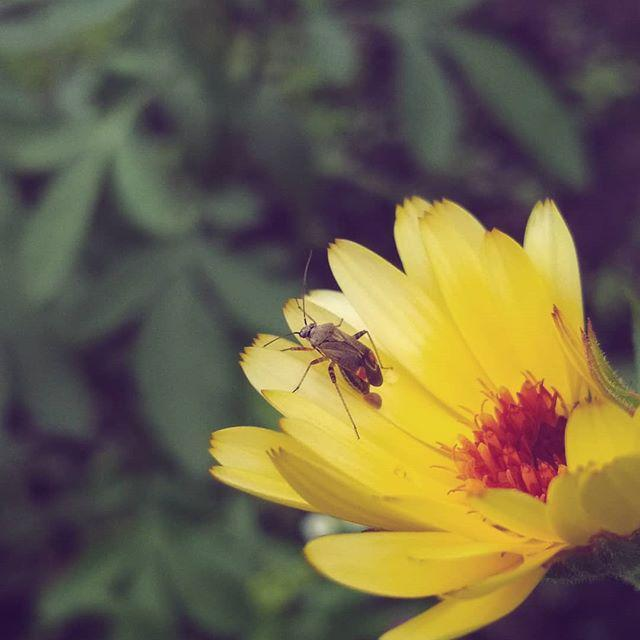Miridae-Adult-: (261, 248, 397, 442)
